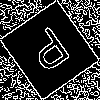P: (24, 25, 79, 81)
